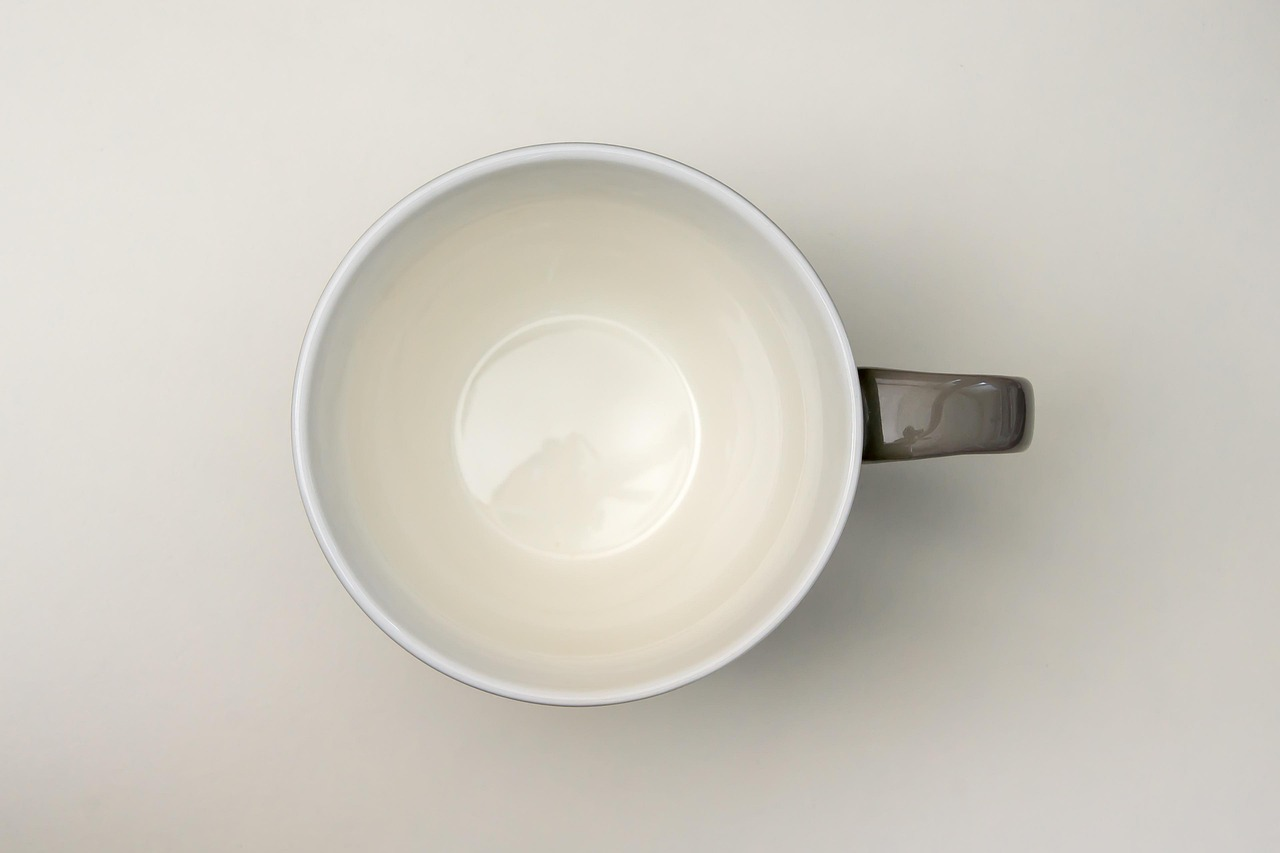mug: (274, 134, 1051, 731)
